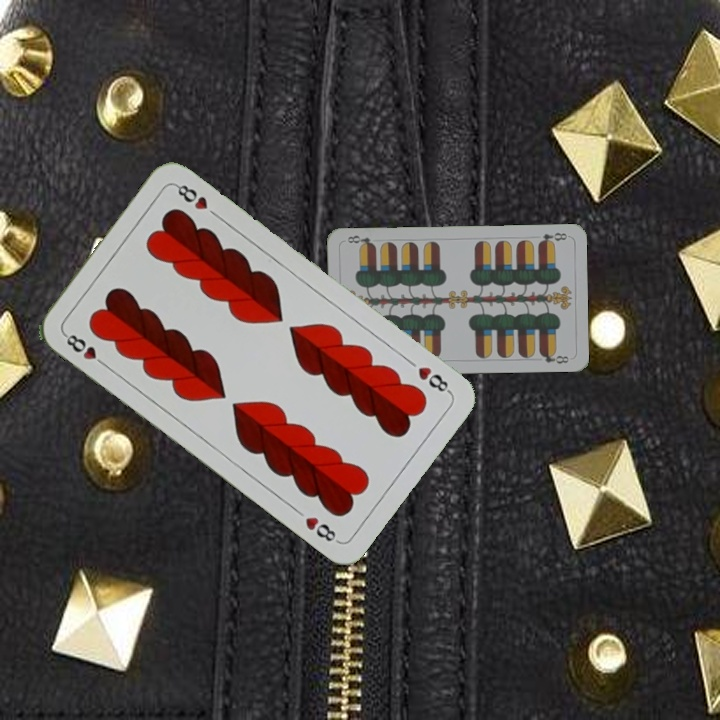E8: (535, 228, 569, 247)
H8: (60, 329, 110, 370), (413, 362, 454, 397)
